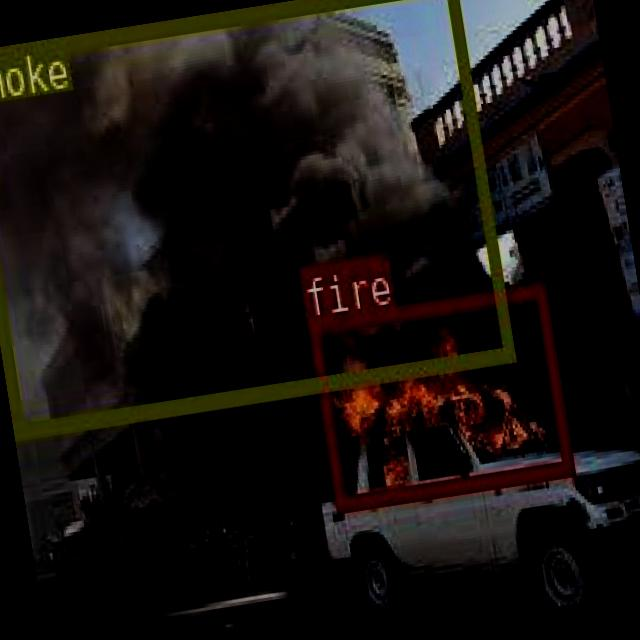fire: (304, 281, 572, 510)
smoke: (0, 0, 514, 435)
